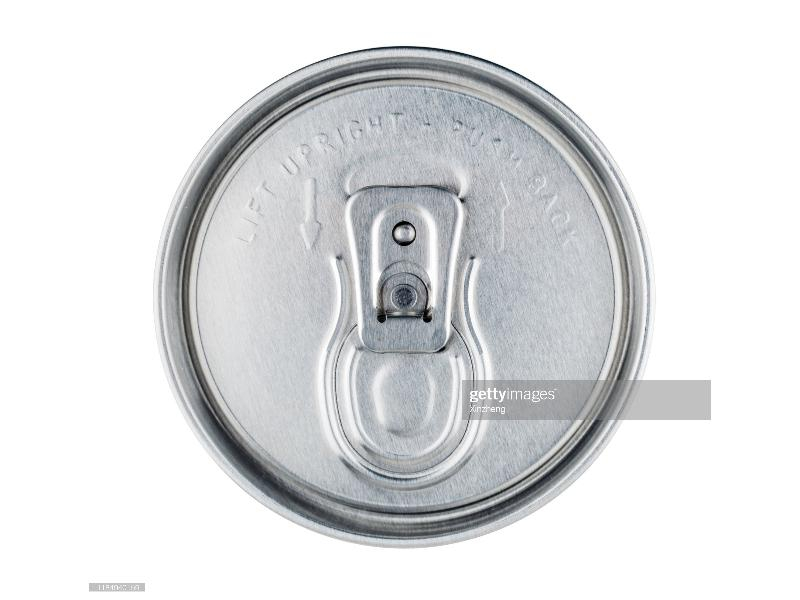can: (157, 46, 647, 552)
